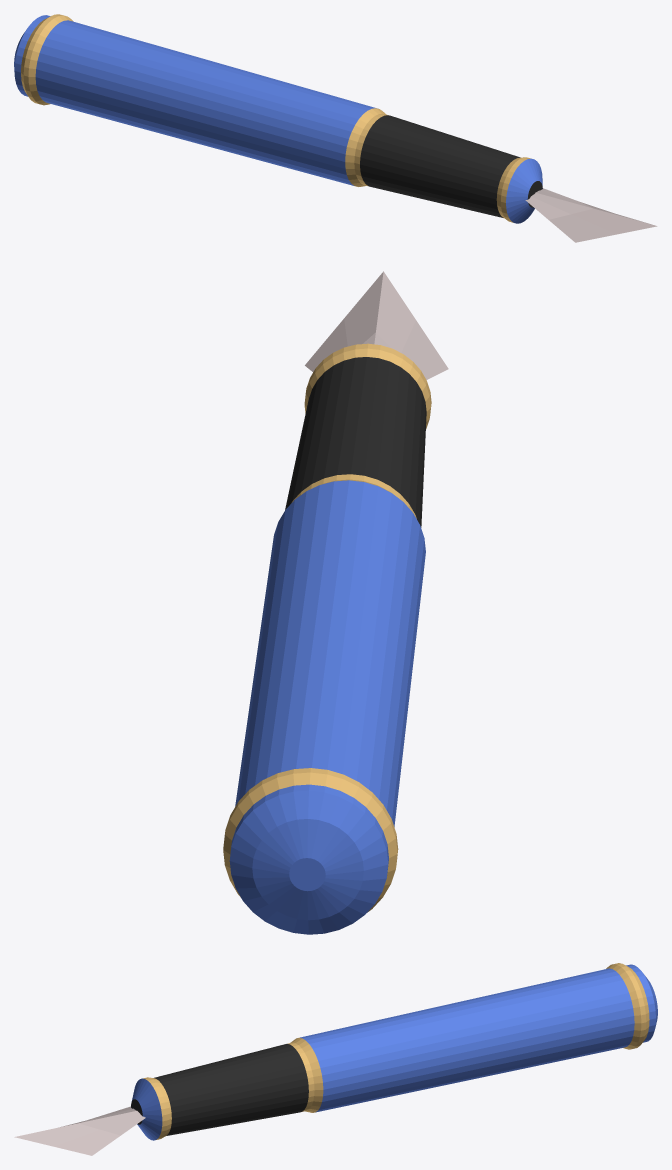
The model's file is stift.glb.
3 views of the same model, one above another, from view 1: azimuth 30°, elevation 25°; view 2: azimuth 150°, elevation 25°; view 3: azimuth 270°, elevation 25° (orthographic). The views are drawn at different scales.
Visible parts, largest first — view 1: Fueller, Spitze; view 2: Fueller, Spitze; view 3: Fueller, Spitze.
Boxes of the visible parts, <box> form: Fueller: <box>14,14,542,223</box>; Spitze: <box>525,188,657,242</box>; Fueller: <box>223,343,431,934</box>; Spitze: <box>305,271,448,379</box>; Fueller: <box>131,963,657,1140</box>; Spitze: <box>14,1106,145,1155</box>.
Size of the model in its own units: 1.44 by 0.3573 by 2.63.
